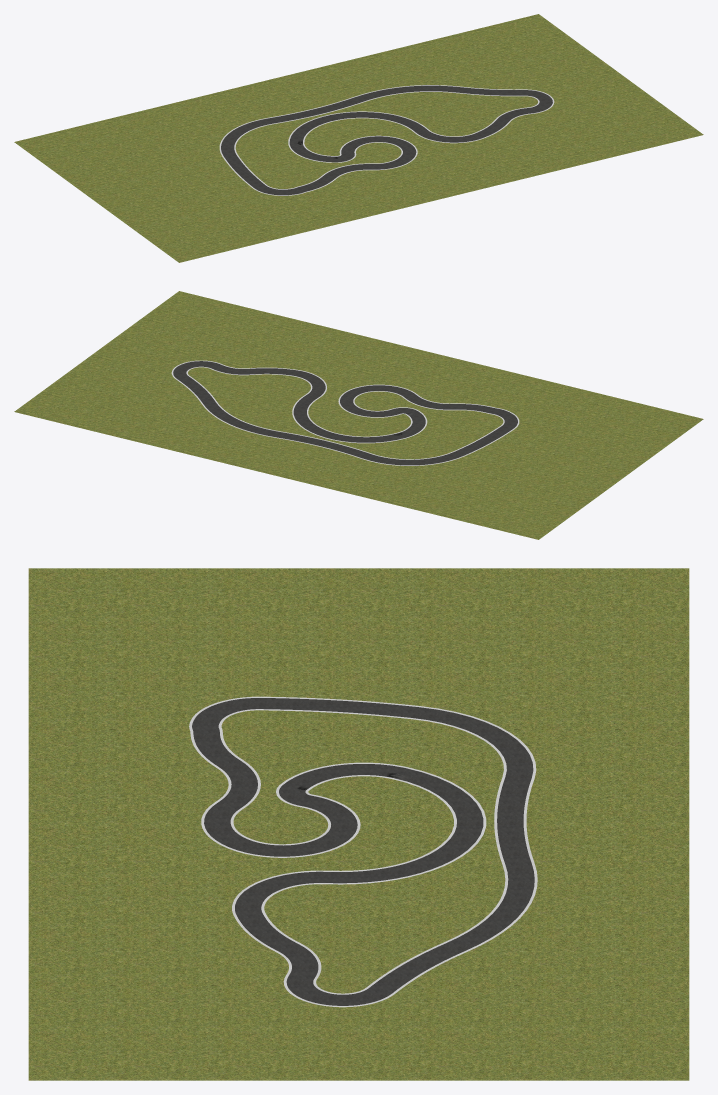
File: track20.dae
The picture shows the model from 3 angles, top to bottom: view 1: azimuth 30°, elevation 25°; view 2: azimuth 150°, elevation 25°; view 3: azimuth 270°, elevation 25°; orthographic projection. The views are drawn at different scales.
Parts seen in each view (by area): view 1: field, road, outerline, innerline; view 2: field, road, outerline, innerline; view 3: field, road, outerline, innerline.
Part boxes in pixels (x1,y1,x2,y2): field: [14, 14, 703, 262]; road: [221, 85, 552, 195]; outerline: [219, 85, 554, 195]; innerline: [234, 91, 539, 189]; field: [14, 291, 703, 539]; road: [173, 361, 517, 465]; outerline: [171, 360, 519, 465]; innerline: [186, 366, 504, 459]; field: [28, 568, 689, 1080]; road: [192, 698, 534, 1005]; outerline: [189, 696, 537, 1007]; innerline: [218, 709, 508, 994].
Size of the model in its own units: 74.83 by 40.8 by 0.01.
Materials: 3 (3 with a texture image).
